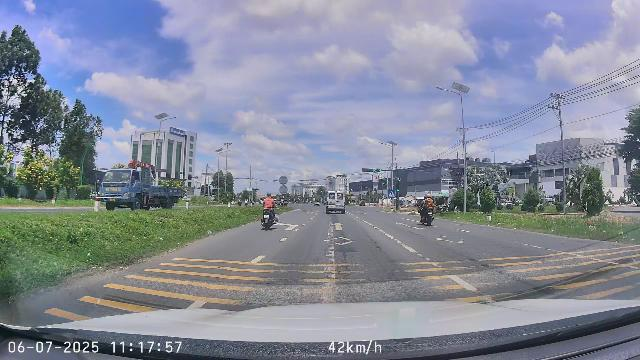423a-duong-nguoi-di-bo-sang-ngang-1: (388, 190, 396, 198)
